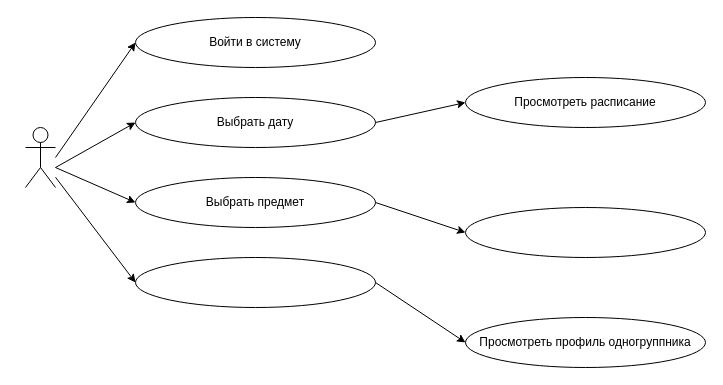
Image size: 723x385. Some labels were removed from this diagram. Here are the shapes that lost their labels. From the top down, the centre of each, then its label:
At (40,157): "Студент".
At (585,232): "Просмотреть журнал группы по предмету".
At (255,282): "Просмотреть профиль".
